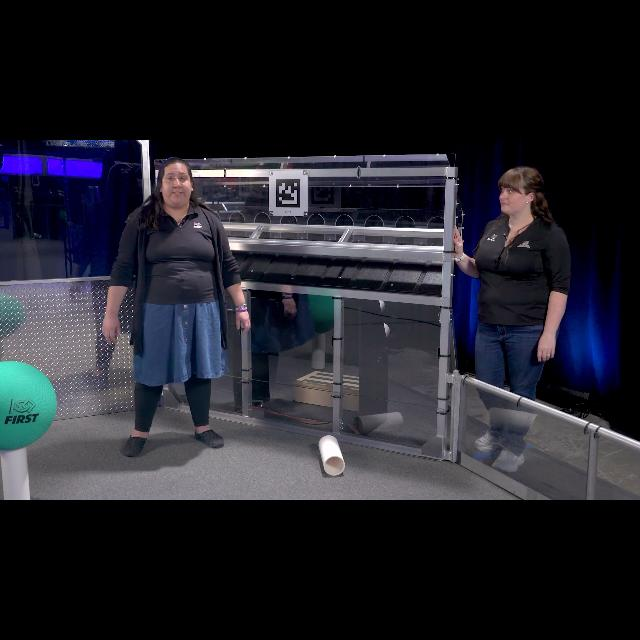ALGAE: (0, 360, 56, 450)
CORAL: (1, 446, 32, 500), (318, 436, 346, 476)
